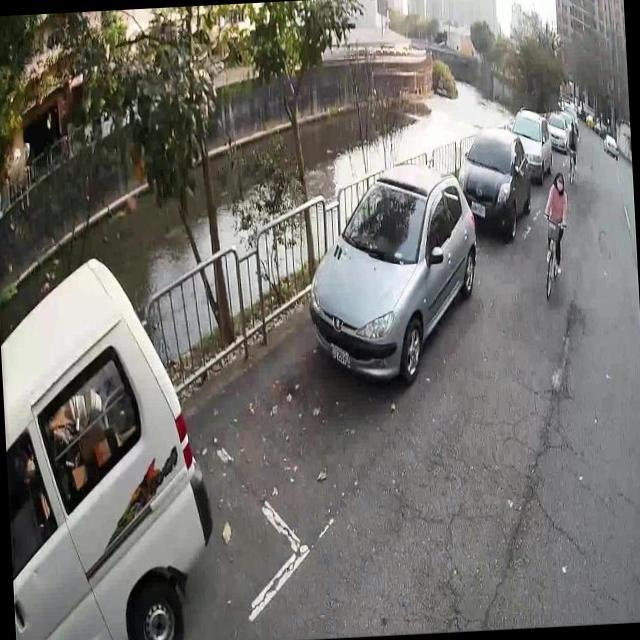person: (538, 168, 572, 276), (564, 118, 581, 184)
